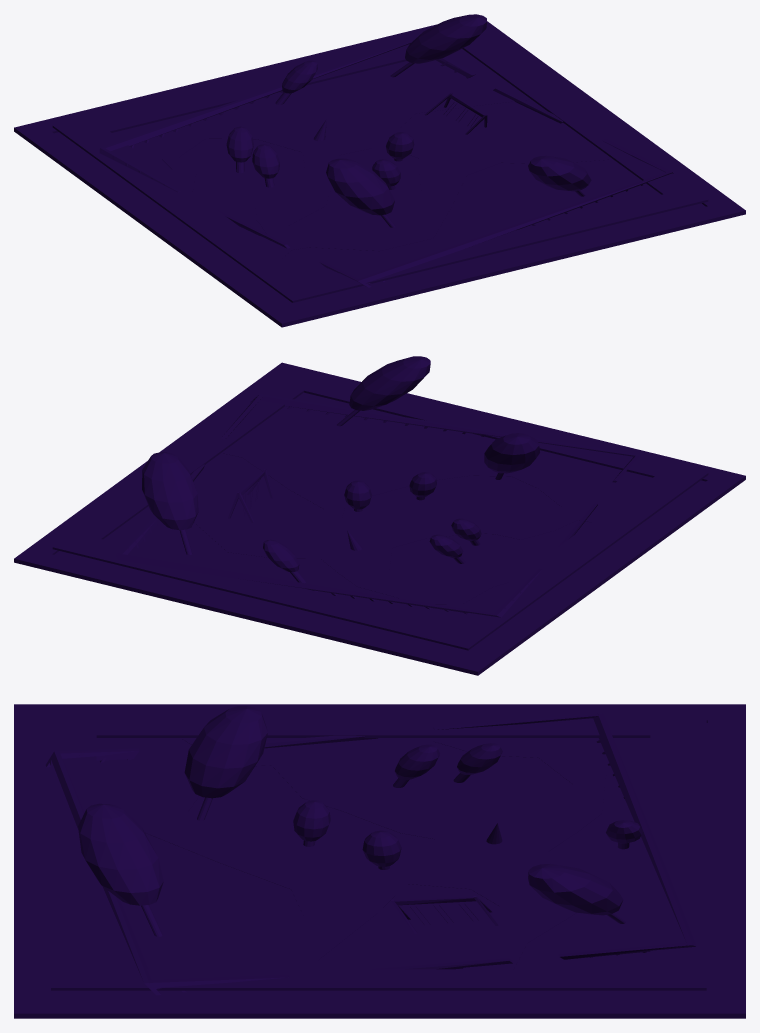
Rendered from park_oozed_c.FBX.
The picture shows the model from 3 angles, top to bottom: view 1: azimuth 30°, elevation 25°; view 2: azimuth 150°, elevation 25°; view 3: azimuth 270°, elevation 25°; orthographic projection. The views are drawn at different scales.
Visible parts, largest first — view 1: Layer:bldgconcrete, Layer:greenery, Layer:street, Layer:0, Layer:wood; view 2: Layer:bldgconcrete, Layer:greenery, Layer:street, Layer:0, Layer:wood; view 3: Layer:bldgconcrete, Layer:greenery, Layer:street, Layer:0, Layer:wood.
Boxes of the visible parts, x1,y1,x2,y2 form: Layer:bldgconcrete: [52, 34, 708, 302]; Layer:greenery: [133, 14, 646, 286]; Layer:street: [14, 21, 745, 327]; Layer:0: [99, 39, 673, 287]; Layer:wood: [236, 62, 585, 227]; Layer:bldgconcrete: [52, 371, 708, 650]; Layer:greenery: [138, 356, 621, 614]; Layer:street: [14, 362, 745, 675]; Layer:0: [116, 394, 640, 617]; Layer:wood: [179, 410, 503, 583]; Layer:bldgconcrete: [51, 711, 706, 990]; Layer:greenery: [47, 706, 650, 994]; Layer:street: [14, 704, 745, 1018]; Layer:0: [45, 713, 696, 995]; Layer:wood: [141, 773, 629, 936].
Size of the model in its own units: 4000 by 605 by 4000.
